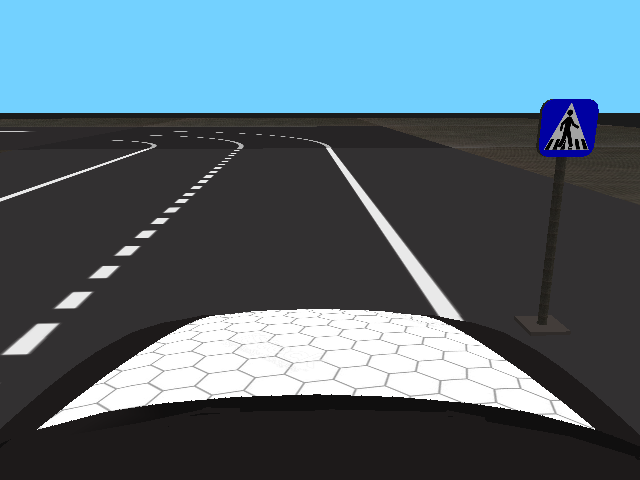pedestrian_cross: (536, 99, 599, 157)
